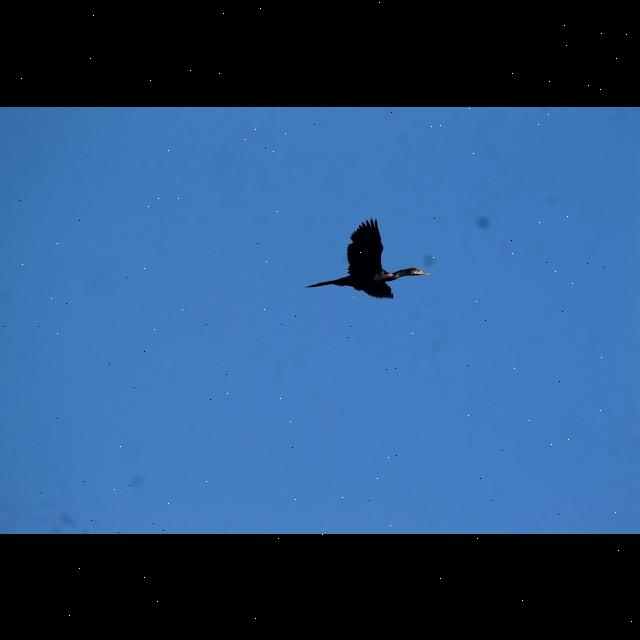cormorant: (296, 214, 434, 306)
